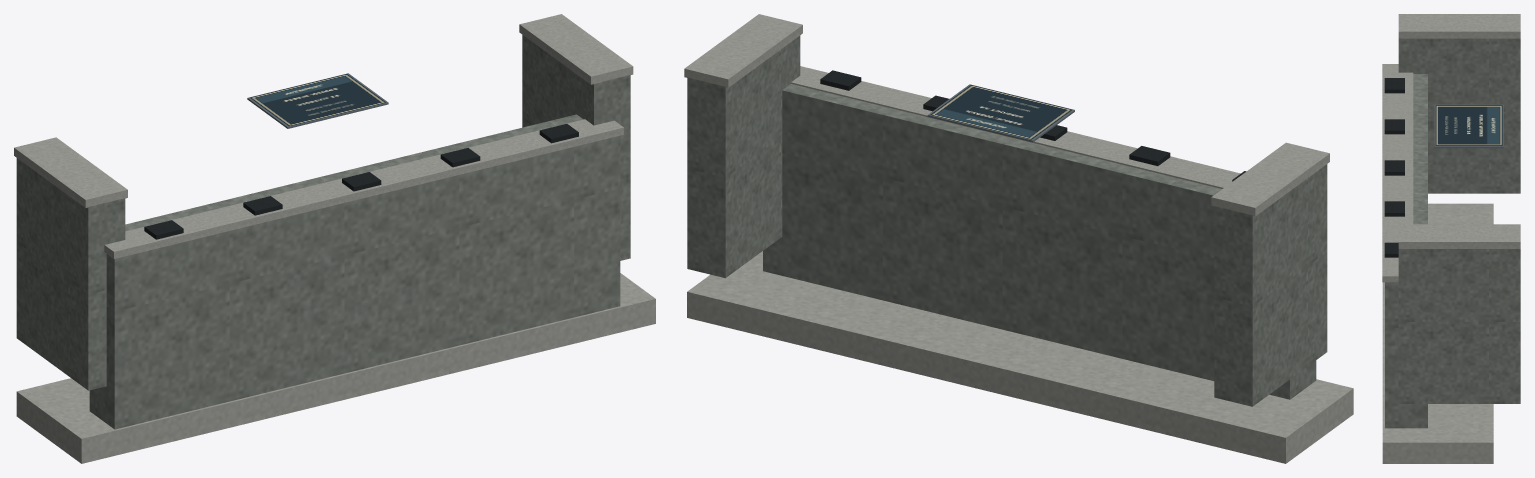
The model's file is PZ_Abutment_Far.glb.
The picture shows the model from 3 angles, left to right: view 1: azimuth 30°, elevation 25°; view 2: azimuth 150°, elevation 25°; view 3: azimuth 270°, elevation 25°; orthographic projection. The views are drawn at different scales.
Parts seen in each view (by area): view 1: PZ_Abutment_Far_BACKWALL, PZ_Abutment_Far_SPREAD_FOOTING, PZ_Abutment_Far_WEST_WING_WALL, PZ_Abutment_Far_BEARING_SHELF, PZ_Abutment_Far_EAST_WING_WALL, PZ_Abutment_Far_EAST_COPING, PZ_Abutment_Far_WEST_COPING, PZ_Abutment_Far_AVENPORT_PLAQUE_PRINT, PZ_Abutment_Far_PLAQUE_BACK; view 2: PZ_Abutment_Far_BACKWALL, PZ_Abutment_Far_SPREAD_FOOTING, PZ_Abutment_Far_WEST_WING_WALL, PZ_Abutment_Far_EAST_WING_WALL, PZ_Abutment_Far_BEARING_SHELF, PZ_Abutment_Far_WEST_COPING, PZ_Abutment_Far_EAST_COPING, PZ_Abutment_Far_AVENPORT_PLAQUE_PRINT, PZ_Abutment_Far_PLAQUE_BACK; view 3: PZ_Abutment_Far_EAST_WING_WALL, PZ_Abutment_Far_WEST_WING_WALL, PZ_Abutment_Far_SPREAD_FOOTING, PZ_Abutment_Far_BACKWALL, PZ_Abutment_Far_BEARING_SHELF, PZ_Abutment_Far_WEST_COPING, PZ_Abutment_Far_EAST_COPING, PZ_Abutment_Far_AVENPORT_PLAQUE_PRINT, PZ_Abutment_Far_PLAQUE_BACK, PZ_Abutment_Far_NEOPRENE_BEARING_3, PZ_Abutment_Far_NEOPRENE_BEARING_4, PZ_Abutment_Far_NEOPRENE_BEARING_1 (+2 smaller).
Part boxes in pixels (x1,y1,x2,y2): PZ_Abutment_Far_BACKWALL: [89, 114, 620, 429]; PZ_Abutment_Far_SPREAD_FOOTING: [16, 273, 655, 463]; PZ_Abutment_Far_WEST_WING_WALL: [16, 158, 125, 390]; PZ_Abutment_Far_BEARING_SHELF: [104, 119, 623, 258]; PZ_Abutment_Far_EAST_WING_WALL: [522, 35, 630, 260]; PZ_Abutment_Far_EAST_COPING: [519, 14, 633, 84]; PZ_Abutment_Far_WEST_COPING: [14, 137, 127, 207]; PZ_Abutment_Far_AVENPORT_PLAQUE_PRINT: [250, 74, 385, 126]; PZ_Abutment_Far_PLAQUE_BACK: [247, 73, 388, 128]; PZ_Abutment_Far_BACKWALL: [763, 84, 1316, 399]; PZ_Abutment_Far_SPREAD_FOOTING: [687, 251, 1353, 463]; PZ_Abutment_Far_WEST_WING_WALL: [1214, 164, 1327, 406]; PZ_Abutment_Far_EAST_WING_WALL: [687, 35, 800, 278]; PZ_Abutment_Far_BEARING_SHELF: [791, 66, 1240, 188]; PZ_Abutment_Far_WEST_COPING: [1211, 142, 1329, 216]; PZ_Abutment_Far_EAST_COPING: [684, 14, 802, 87]; PZ_Abutment_Far_AVENPORT_PLAQUE_PRINT: [930, 85, 1072, 139]; PZ_Abutment_Far_PLAQUE_BACK: [927, 84, 1074, 142]; PZ_Abutment_Far_EAST_WING_WALL: [1398, 249, 1520, 403]; PZ_Abutment_Far_WEST_WING_WALL: [1398, 38, 1520, 193]; PZ_Abutment_Far_SPREAD_FOOTING: [1382, 203, 1493, 463]; PZ_Abutment_Far_BACKWALL: [1385, 74, 1427, 428]; PZ_Abutment_Far_BEARING_SHELF: [1382, 64, 1413, 282]; PZ_Abutment_Far_WEST_COPING: [1398, 14, 1520, 38]; PZ_Abutment_Far_EAST_COPING: [1398, 224, 1520, 248]; PZ_Abutment_Far_AVENPORT_PLAQUE_PRINT: [1435, 105, 1502, 145]; PZ_Abutment_Far_PLAQUE_BACK: [1434, 104, 1503, 148]; PZ_Abutment_Far_NEOPRENE_BEARING_3: [1384, 160, 1404, 175]; PZ_Abutment_Far_NEOPRENE_BEARING_4: [1384, 201, 1404, 216]; PZ_Abutment_Far_NEOPRENE_BEARING_1: [1384, 78, 1404, 93].
Bounding box in the file's own units: 12.5 × 5.34 × 3.06.
Materials: 5 (5 with a texture image).
